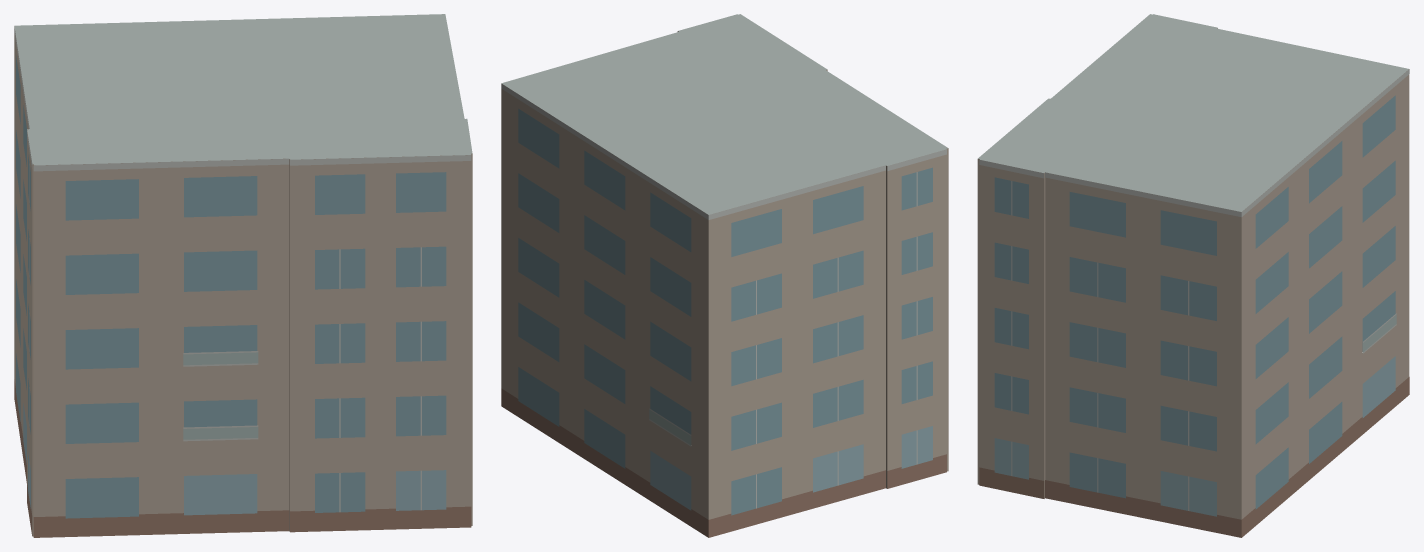
The model's file is survey-upis-33014733.glb.
3 renders of one model, left to right at view 1: azimuth 30°, elevation 25°; view 2: azimuth 150°, elevation 25°; view 3: azimuth 270°, elevation 25°, orthographic. The views are drawn at different scales.
Parts seen in each view (by area): view 1: survey-upis-33014733.tmp; view 2: survey-upis-33014733.tmp; view 3: survey-upis-33014733.tmp.
Boxes of the visible parts, x1,y1,x2,y2 form: survey-upis-33014733.tmp: (14,14,472,537); survey-upis-33014733.tmp: (501,14,948,537); survey-upis-33014733.tmp: (977,14,1409,537).
Size of the model in its own units: 19.88 by 15.25 by 18.32.
